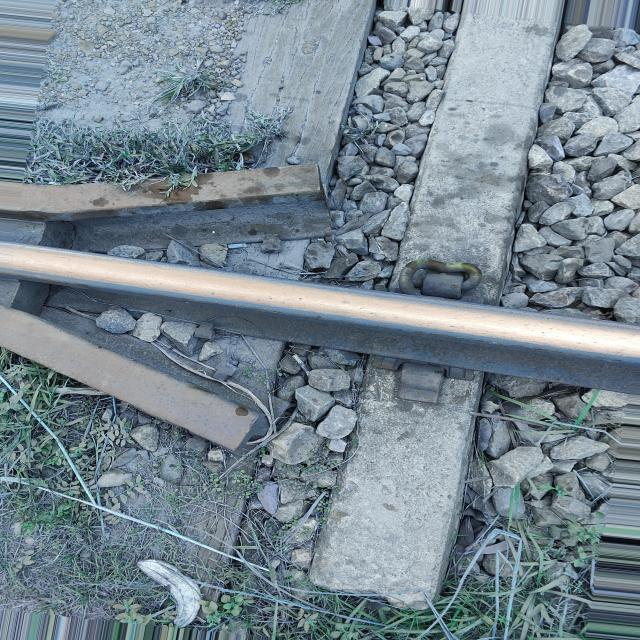Good Fasteners: (388, 243, 487, 294)
Missing Fastener: (359, 354, 480, 418)
